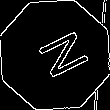N_SW: (23, 26, 87, 84)
